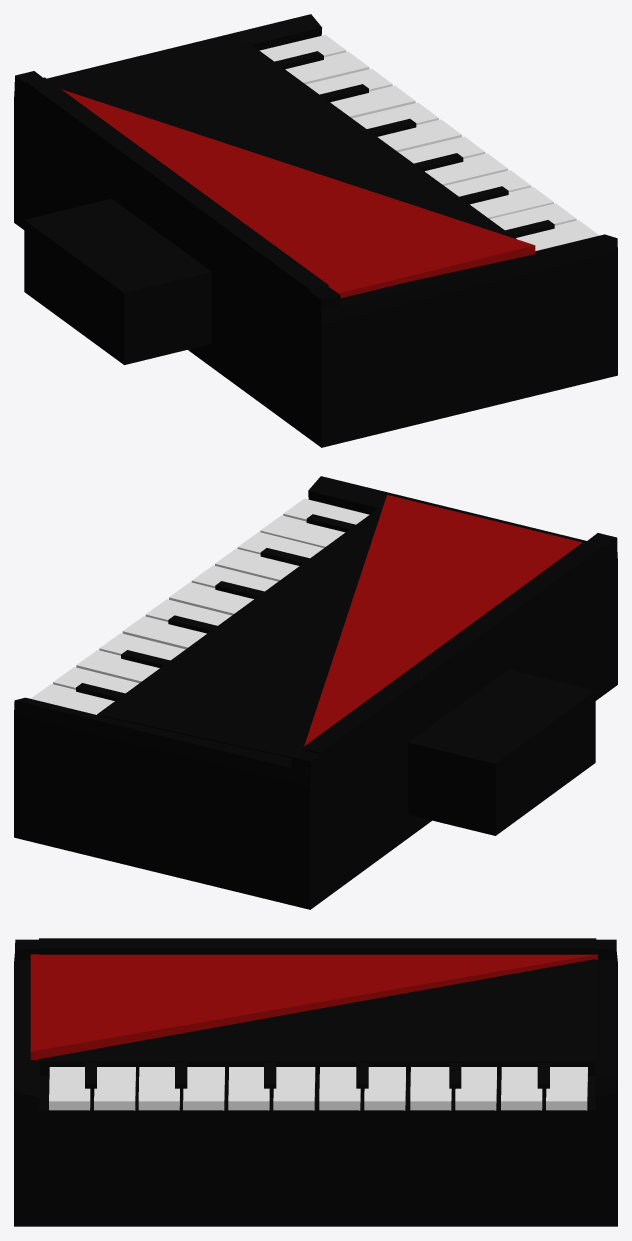
File: Redshooter.fbx
3 views of the same model, one above another, from view 1: azimuth 30°, elevation 25°; view 2: azimuth 150°, elevation 25°; view 3: azimuth 270°, elevation 25° (orthographic).
Parts seen in each view (by area): view 1: Box001, Box021, Box002, Box011, Box009, Box013, Box007, Box005, Box003, Box008, Box004, Box014 (+3 smaller); view 2: Box001, Box021, Box002, Box008, Box010, Box004, Box006, Box012, Box014, Box011, Box009, Box013 (+3 smaller); view 3: Box001, Box021, Box011, Box008, Box004, Box006, Box014, Box010, Box009, Box013, Box012, Box003 (+2 smaller).
Boxes of the visible parts, bbox=[...] form: Box001: bbox=[14, 14, 617, 447]; Box021: bbox=[61, 89, 535, 298]; Box002: bbox=[24, 198, 211, 364]; Box011: bbox=[330, 85, 415, 118]; Box009: bbox=[378, 119, 461, 152]; Box013: bbox=[285, 51, 369, 84]; Box007: bbox=[425, 153, 507, 185]; Box005: bbox=[470, 187, 553, 218]; Box003: bbox=[516, 220, 598, 251]; Box008: bbox=[398, 136, 485, 163]; Box004: bbox=[490, 203, 576, 230]; Box014: bbox=[260, 35, 346, 61]; Box001: bbox=[14, 476, 617, 909]; Box021: bbox=[304, 495, 582, 746]; Box002: bbox=[408, 669, 595, 835]; Box008: bbox=[169, 582, 253, 615]; Box010: bbox=[122, 616, 206, 649]; Box004: bbox=[260, 515, 345, 547]; Box006: bbox=[215, 548, 299, 581]; Box012: bbox=[76, 650, 159, 683]; Box014: bbox=[30, 684, 114, 714]; Box011: bbox=[99, 633, 185, 660]; Box009: bbox=[145, 599, 231, 625]; Box013: bbox=[53, 667, 138, 693]; Box001: bbox=[14, 938, 617, 1226]; Box021: bbox=[30, 954, 597, 1060]; Box011: bbox=[410, 1067, 451, 1110]; Box008: bbox=[273, 1067, 315, 1110]; Box004: bbox=[94, 1067, 135, 1110]; Box006: bbox=[183, 1067, 224, 1110]; Box014: bbox=[546, 1067, 587, 1110]; Box010: bbox=[364, 1067, 405, 1110]; Box009: bbox=[319, 1067, 360, 1110]; Box013: bbox=[501, 1067, 542, 1110]; Box012: bbox=[455, 1067, 496, 1110]; Box003: bbox=[49, 1067, 90, 1110].
Bounding box in the file's own units: 35.21 × 13.06 × 48.86.
